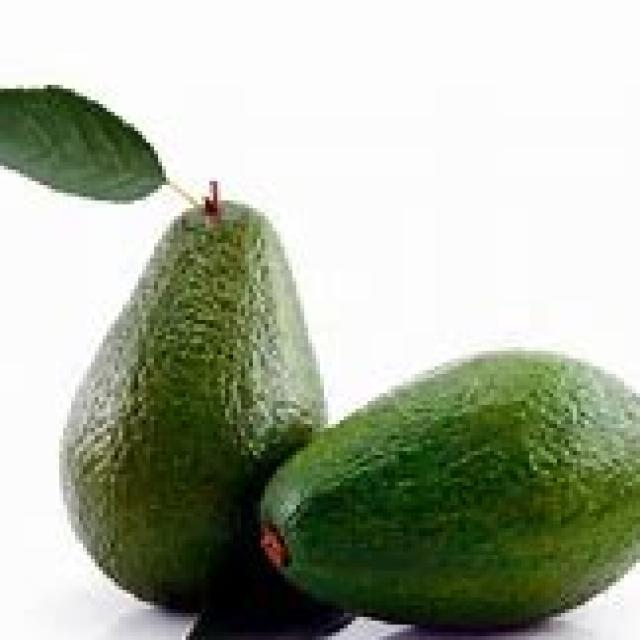avocado: (53, 193, 330, 617), (258, 346, 639, 629)
